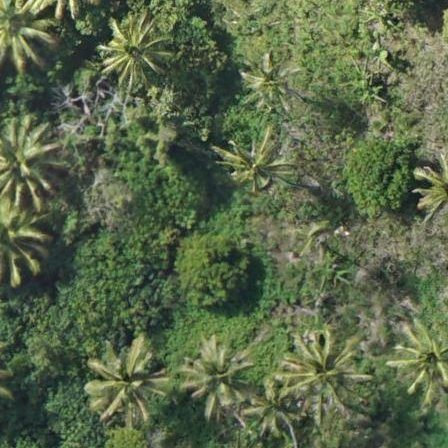palm_tree: (83, 333, 170, 425), (1, 115, 60, 212), (283, 333, 357, 407), (216, 128, 287, 197), (186, 341, 252, 413), (96, 17, 169, 82), (1, 1, 54, 67), (241, 53, 301, 110)
